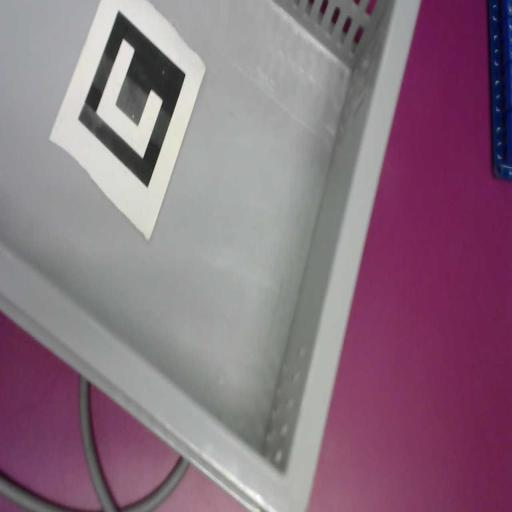QR: (49, 0, 206, 241)
